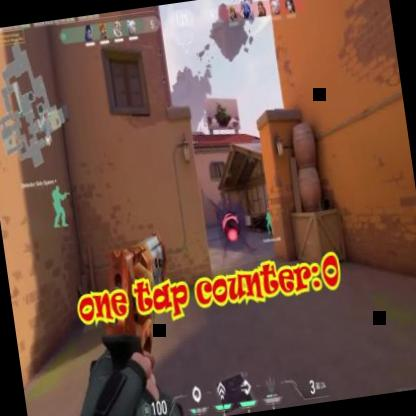enemy: (213, 202, 220, 219)
enemy_head: (214, 202, 216, 206)
